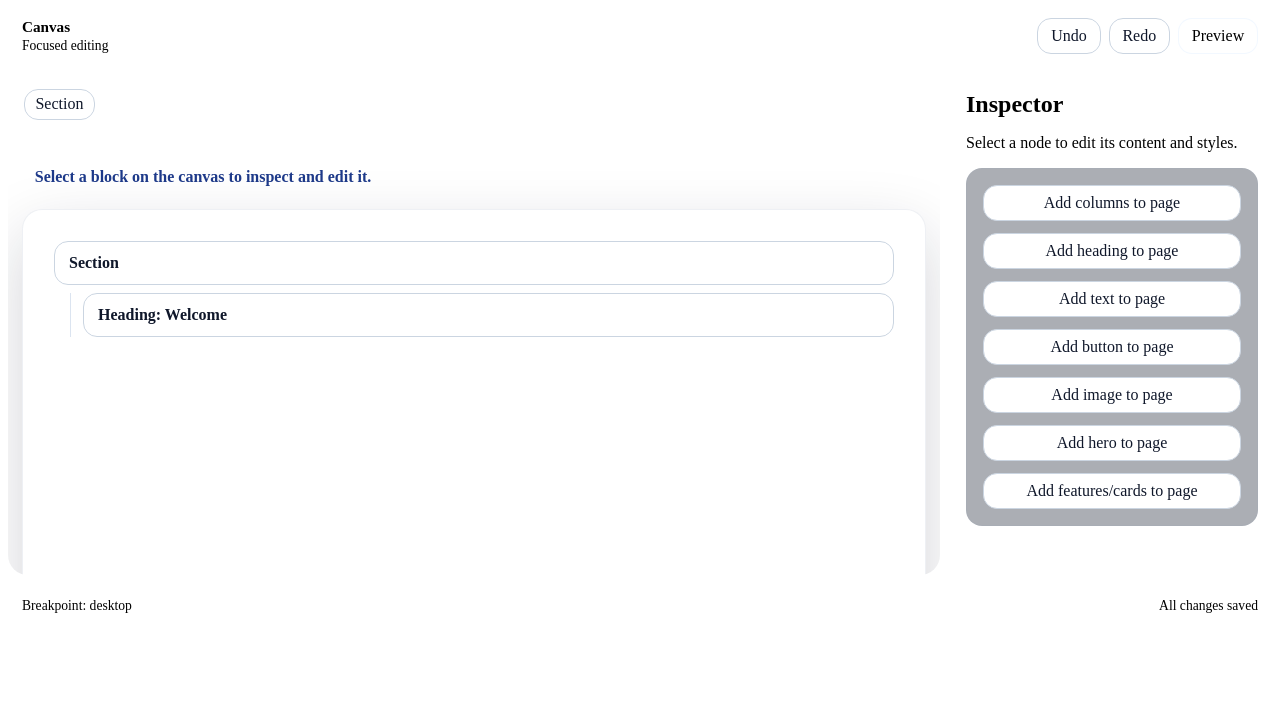
Test case: editor shell flow › adds columns to the page when existing content has no selection and focuses the first container
What coordinates should you click on to do the following:
click the button "Add columns to page"
I would click on:
 (1112, 203)
Its box is top-left (983, 185), bottom-right (1241, 221).
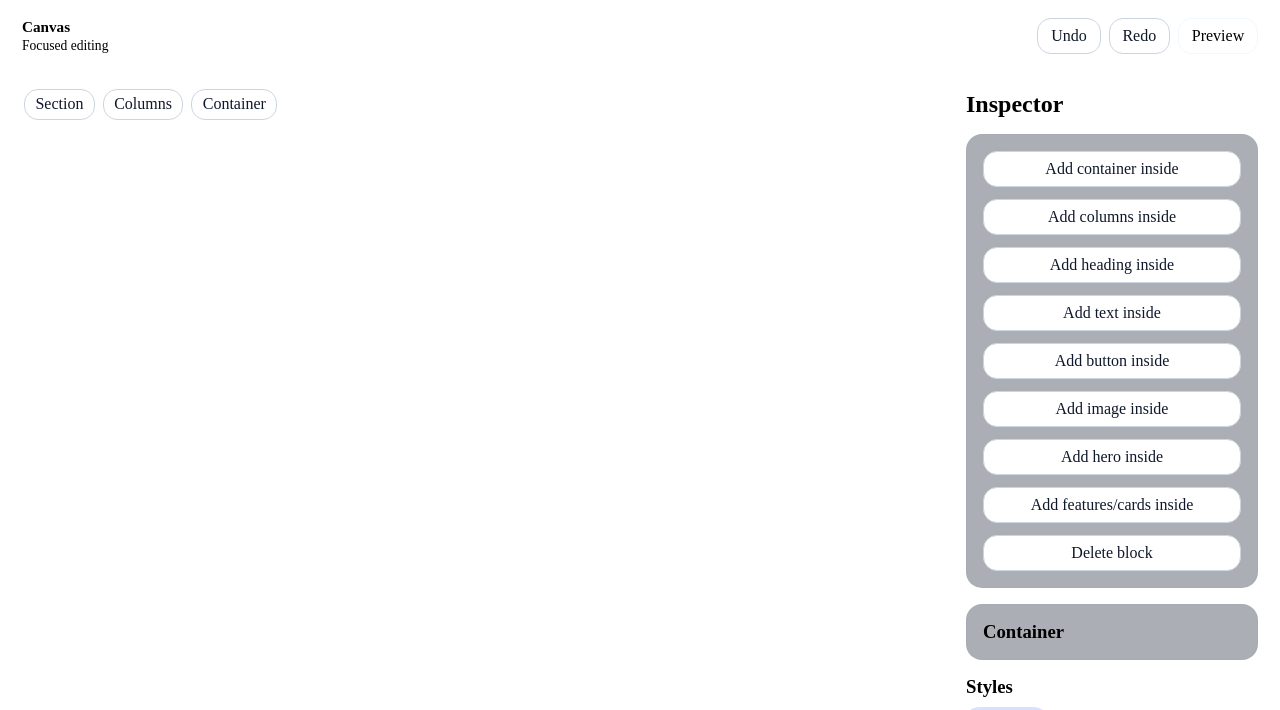
Expected: the heading "Container" is shown, top-left (983, 621), bottom-right (1064, 642)
Expected: the button "Add text inside" is shown, top-left (983, 295), bottom-right (1241, 331)
